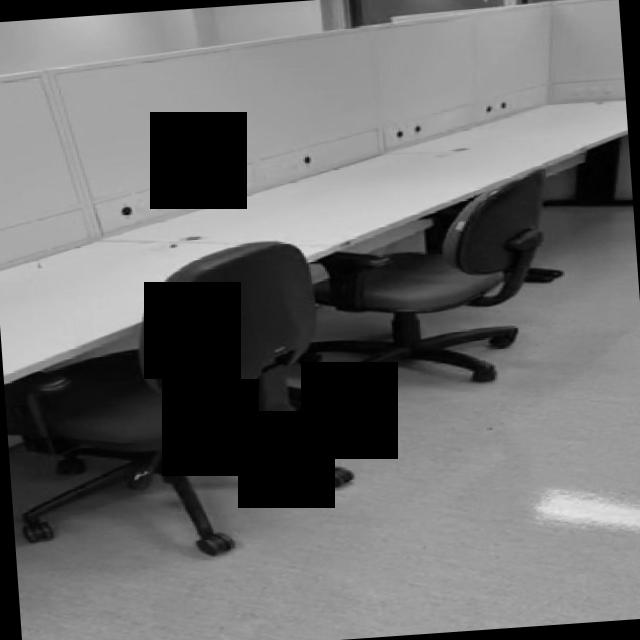cadeira-azul: (0, 234, 358, 567)
